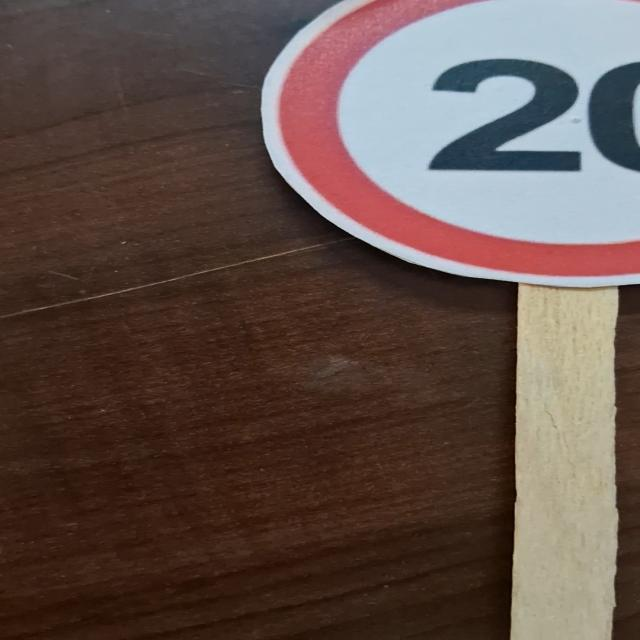Speed20: (233, 0, 640, 311)
